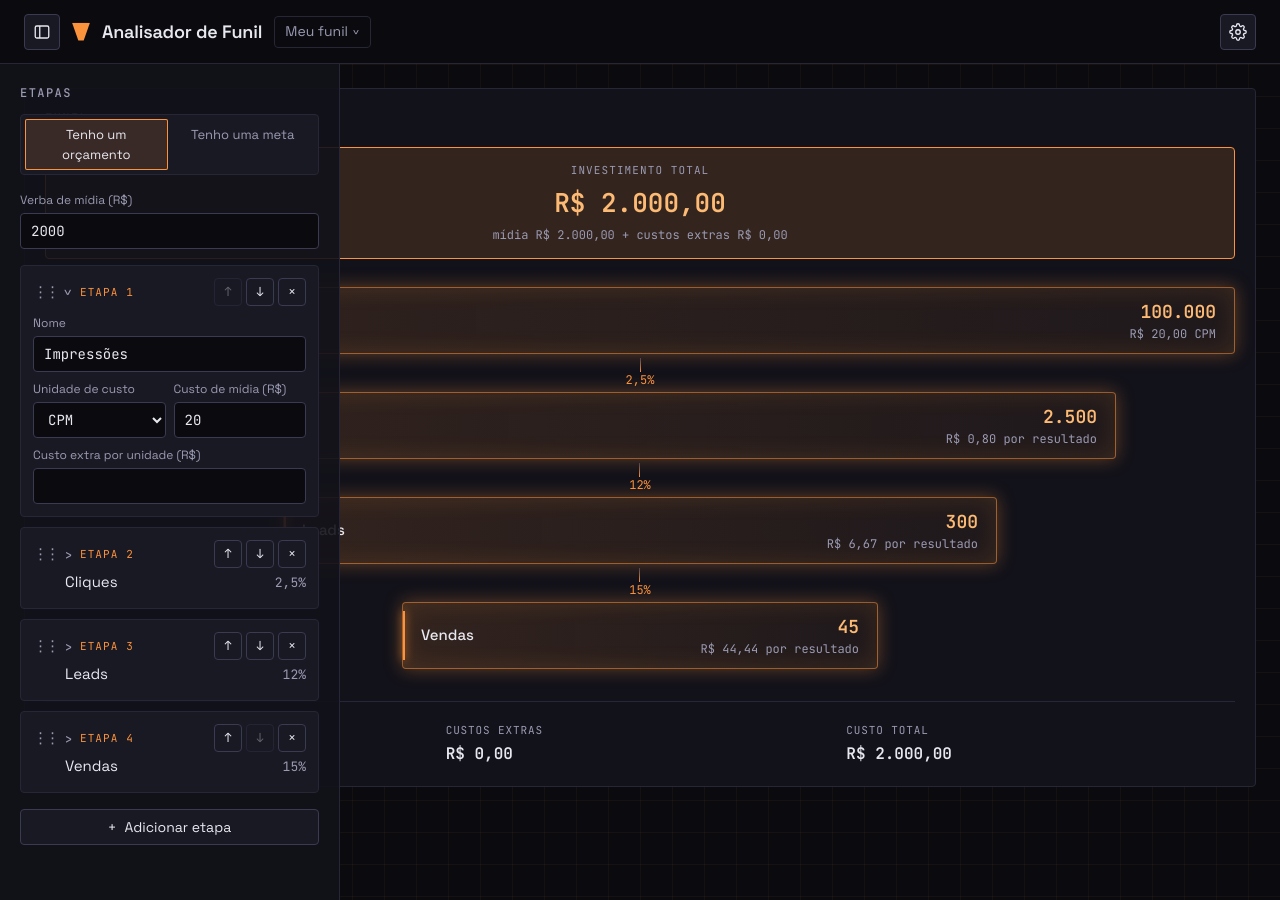
Test case: tela (testes extras) › uma escolha salva é lida ao abrir o app
This screenshot has width=1280, height=900.
Click the button named "Configurações" at (1238, 32), box [1220,14,1256,50]
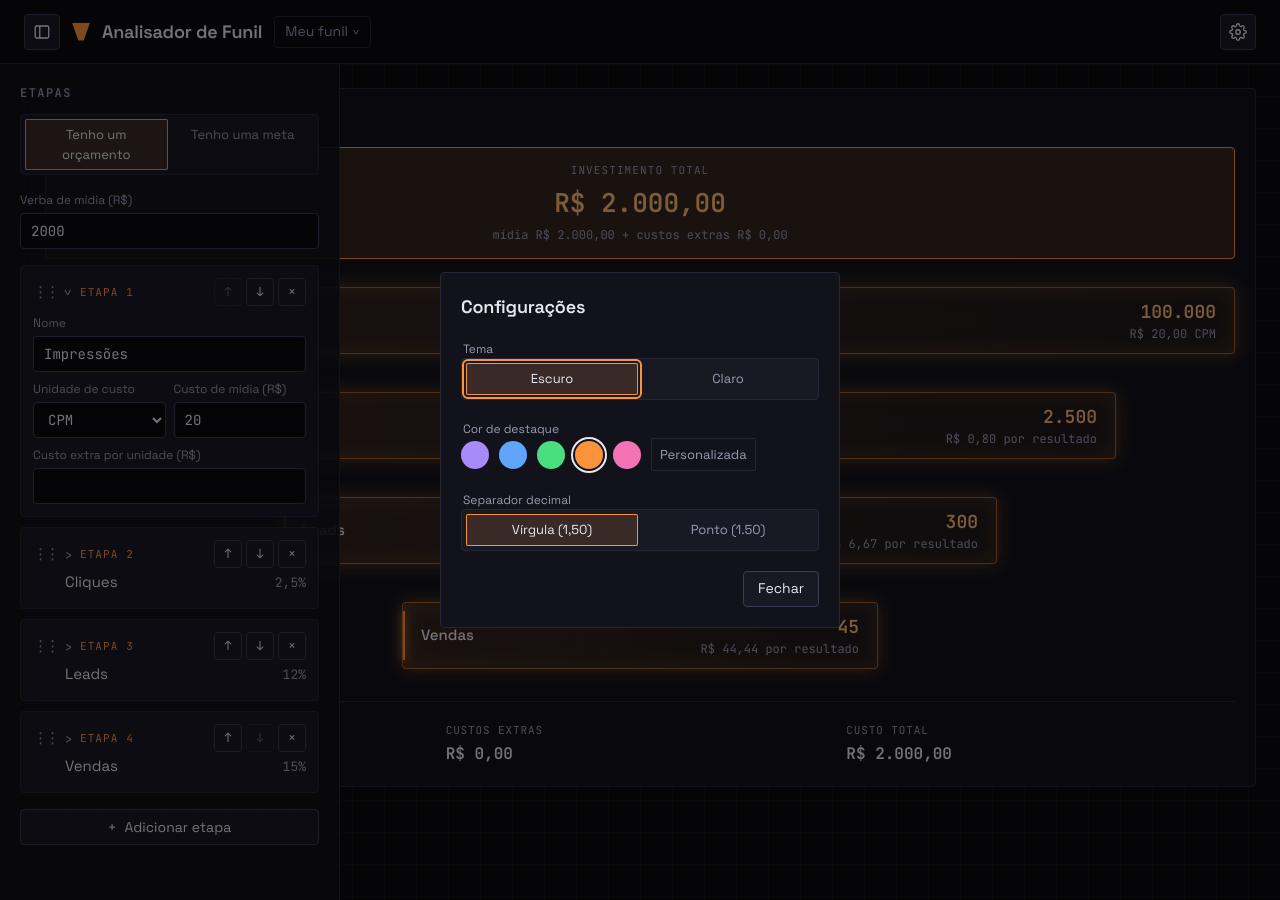
Result: the radio button named "Laranja" is checked at [575,440,603,468]
